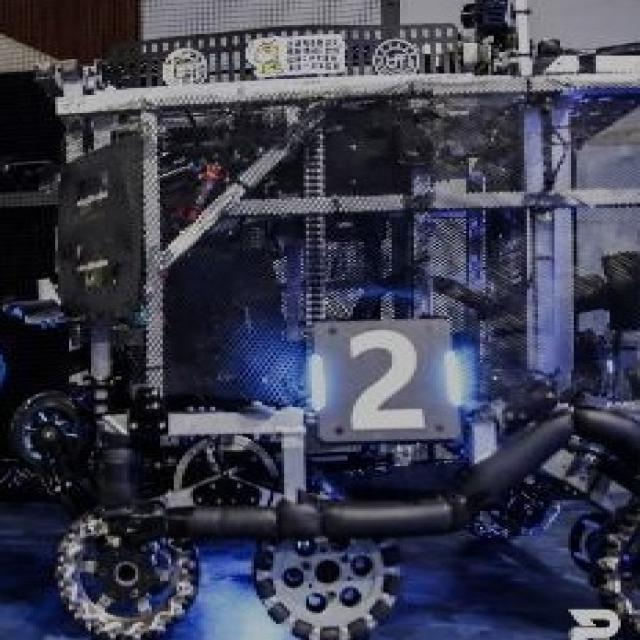B2: (306, 322, 466, 428)
